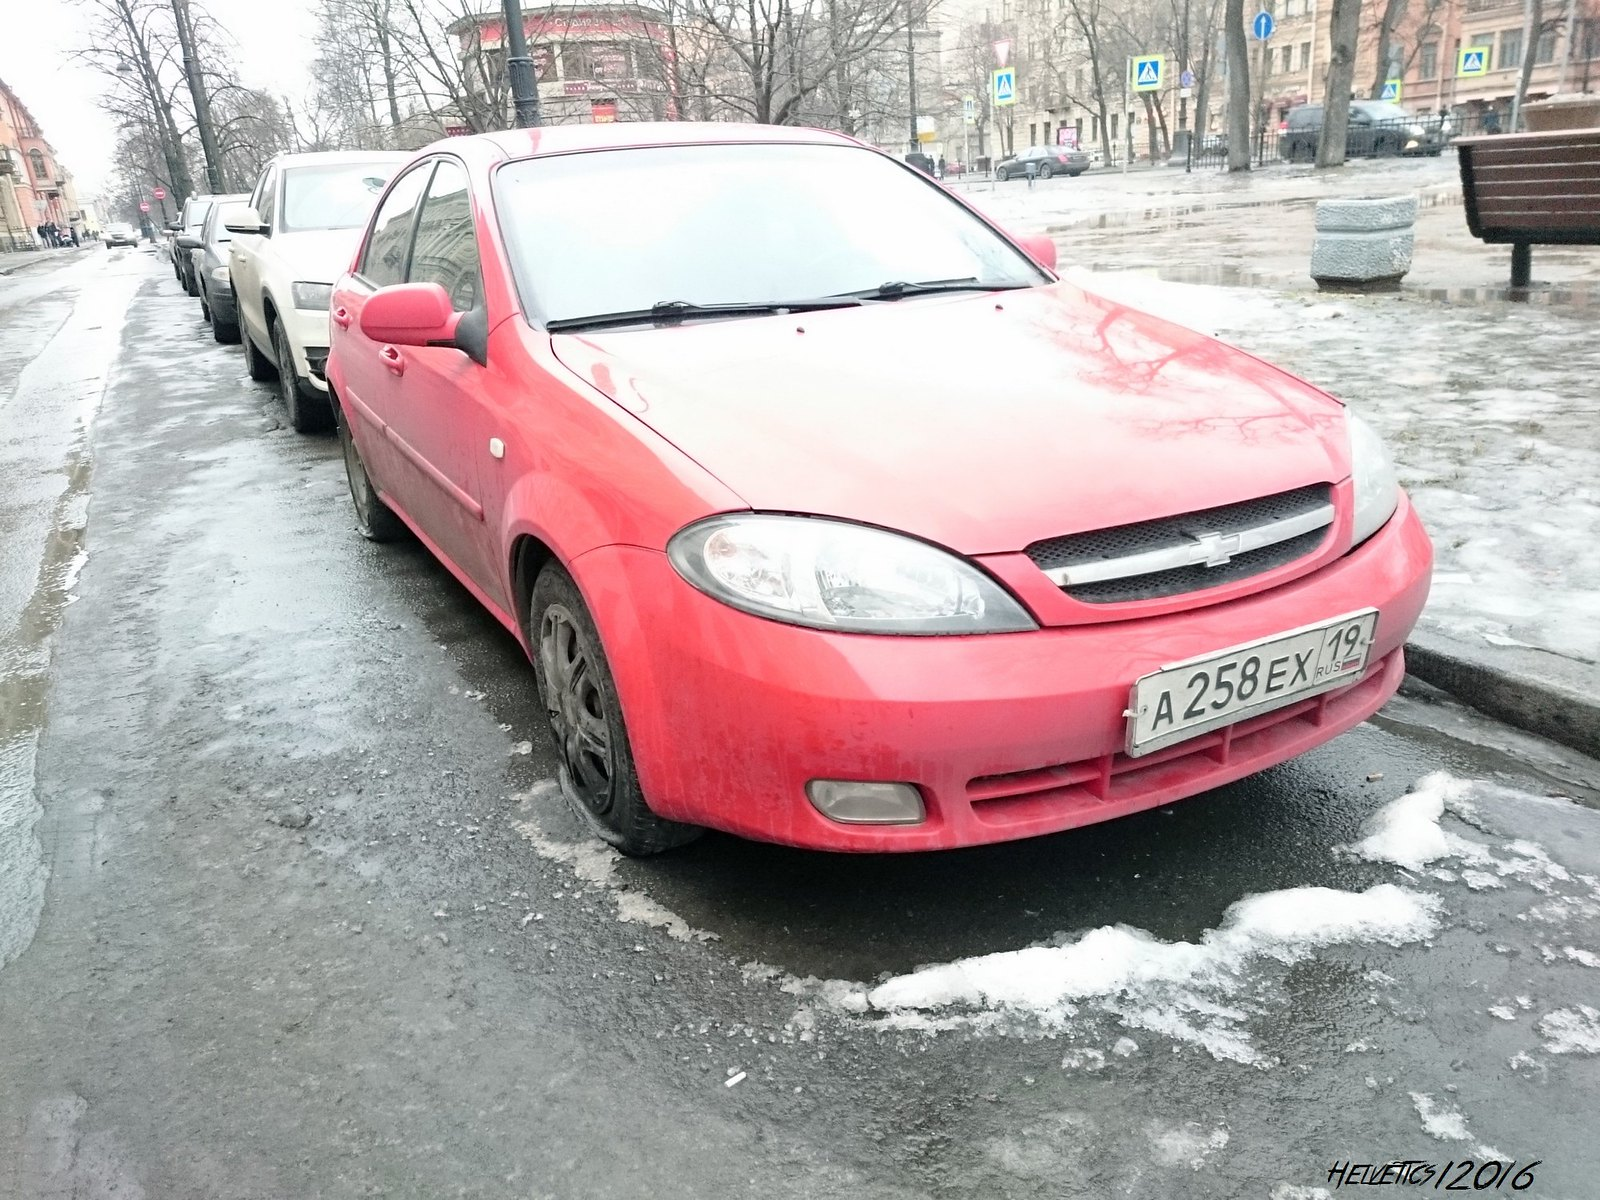car_front: (765, 389, 1428, 868)
plate: (1134, 612, 1373, 744)
